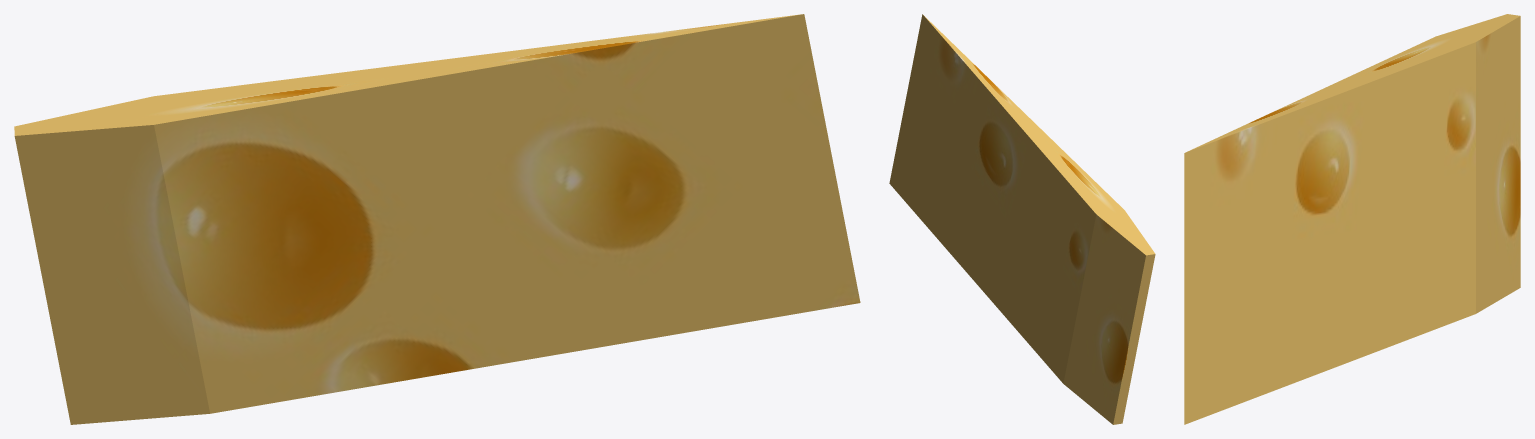
File: Cheese with animation (1).fbx
3 views of the same model, side by side, from view 1: azimuth 30°, elevation 25°; view 2: azimuth 150°, elevation 25°; view 3: azimuth 270°, elevation 25° (orthographic). The views are drawn at different scales.
Parts seen in each view (by area): view 1: pCube1; view 2: pCube1; view 3: pCube1.
Boxes of the visible parts, box(x1,y1,x2,y2) form: pCube1: box(14, 14, 860, 424); pCube1: box(889, 14, 1155, 424); pCube1: box(1184, 14, 1520, 424).
Size of the model in its own units: 8.76 by 5.45 by 4.77.
